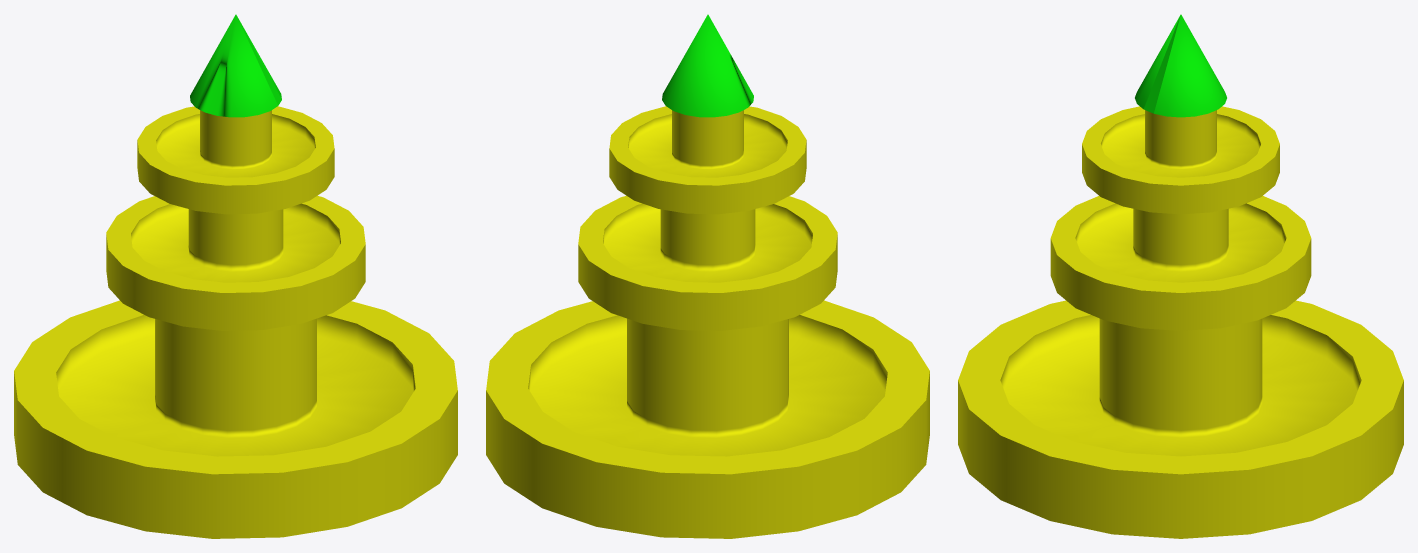
File: Fountaintest3.fbx
The picture shows the model from 3 angles, left to right: view 1: azimuth 30°, elevation 25°; view 2: azimuth 150°, elevation 25°; view 3: azimuth 270°, elevation 25°; orthographic projection.
Parts seen in each view (by area): view 1: pCylinder4, pCone1; view 2: pCylinder4, pCone1; view 3: pCylinder4, pCone1.
Boxes of the visible parts, box(x1,y1,x2,y2) form: pCylinder4: box(14, 106, 457, 538); pCone1: box(190, 14, 281, 117); pCylinder4: box(486, 106, 929, 538); pCone1: box(662, 14, 753, 117); pCylinder4: box(958, 106, 1403, 538); pCone1: box(1135, 14, 1226, 117).
Bounding box in the file's own units: 7.35 × 7.84 × 7.35.
